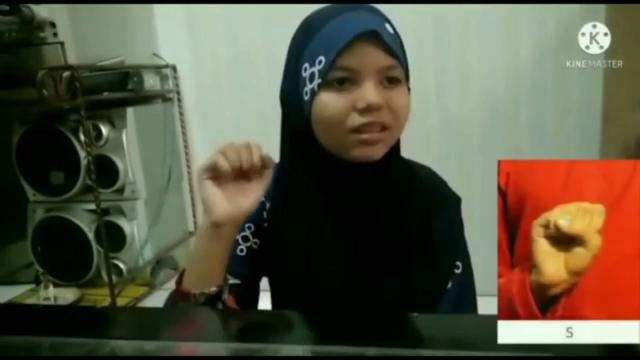S: (528, 198, 610, 294), (192, 140, 280, 221)
